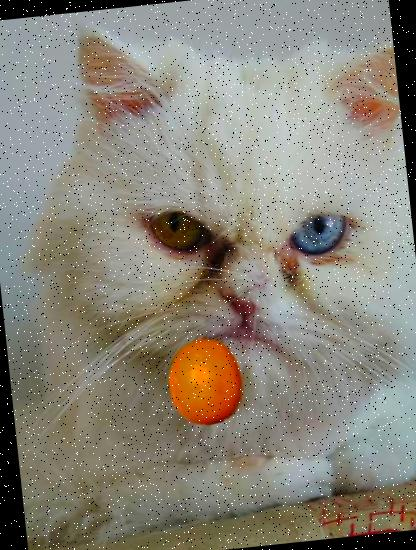Lemon: (157, 334, 254, 430)
